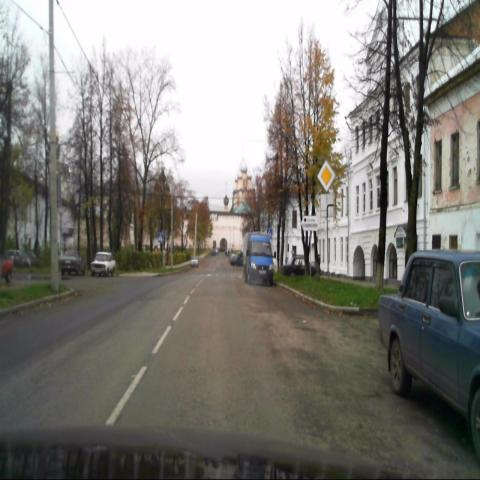8_13: (319, 193, 334, 218)
